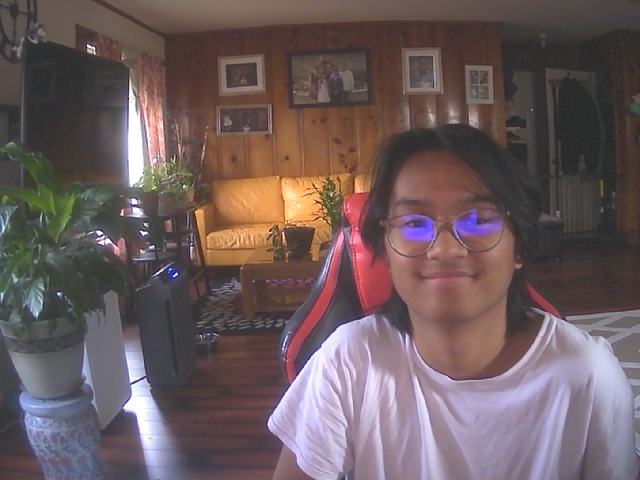happy: (378, 136, 531, 327)
